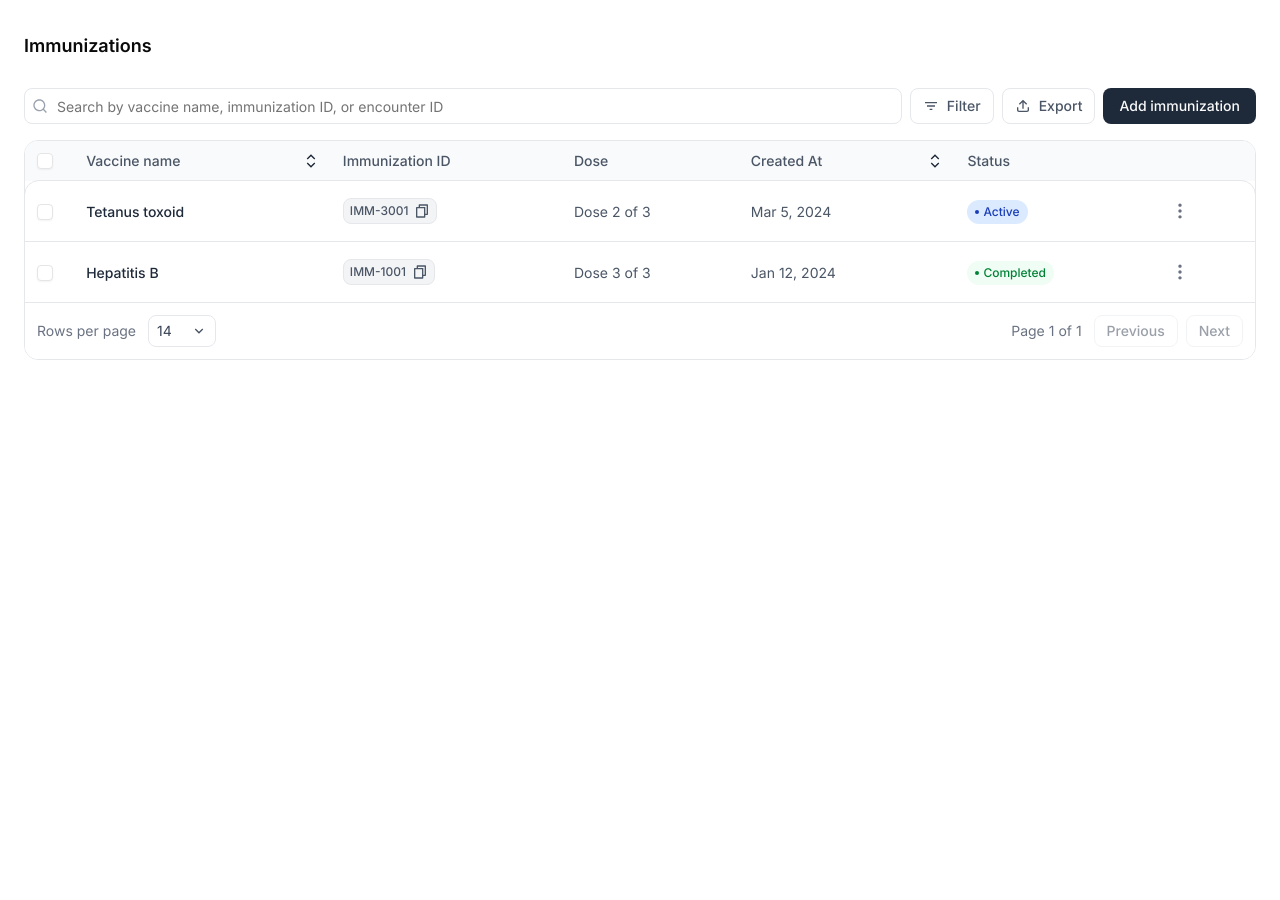
Test: Immunizations table › hides Archive from a member in the row actions and the bulk bar
Click the button named "Open actions for Hepatitis B".
click(1180, 272)  # box 1162,254 -> 1198,290
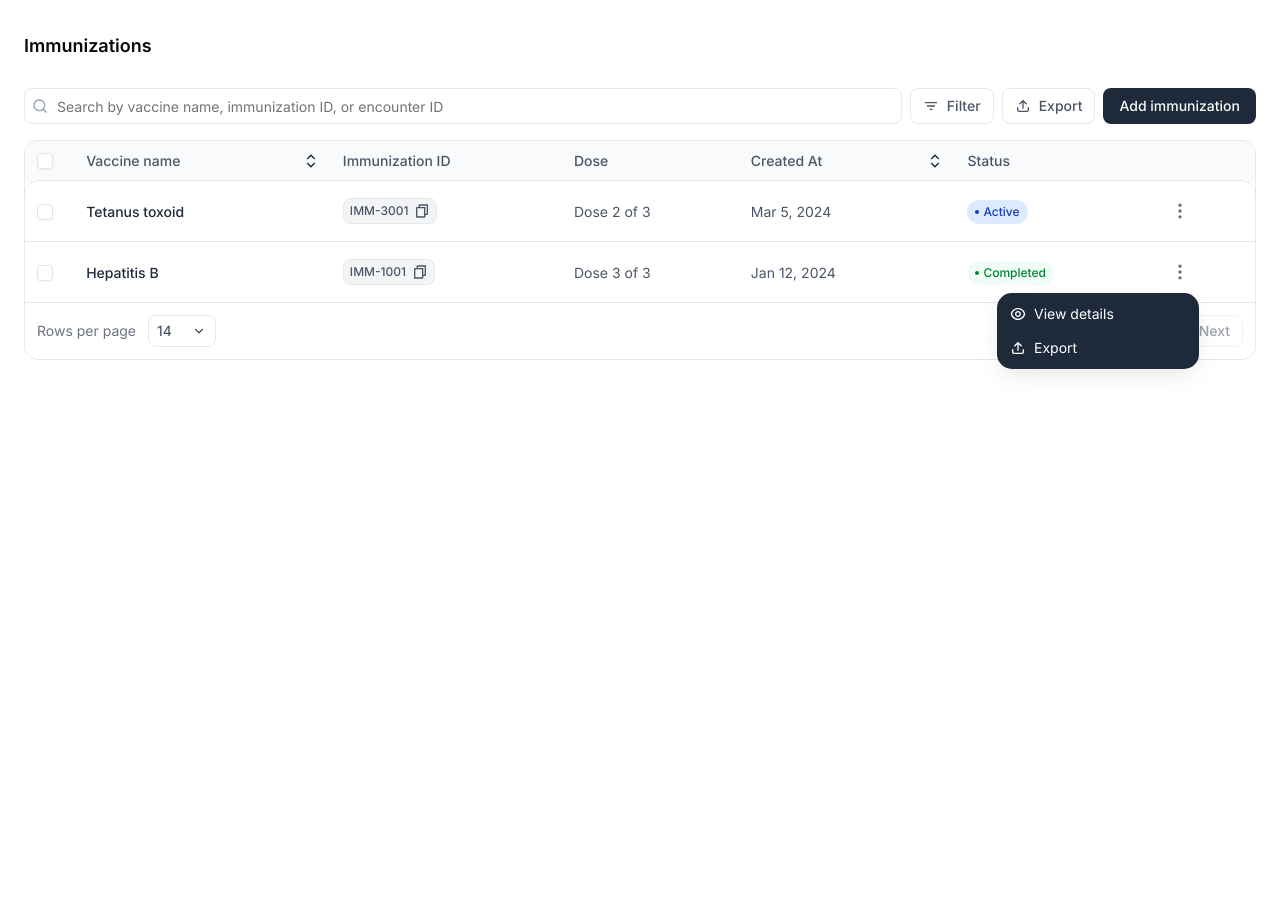
Result: the menu item "View details" is shown at 1010,305 -> 1114,322
Press Escape
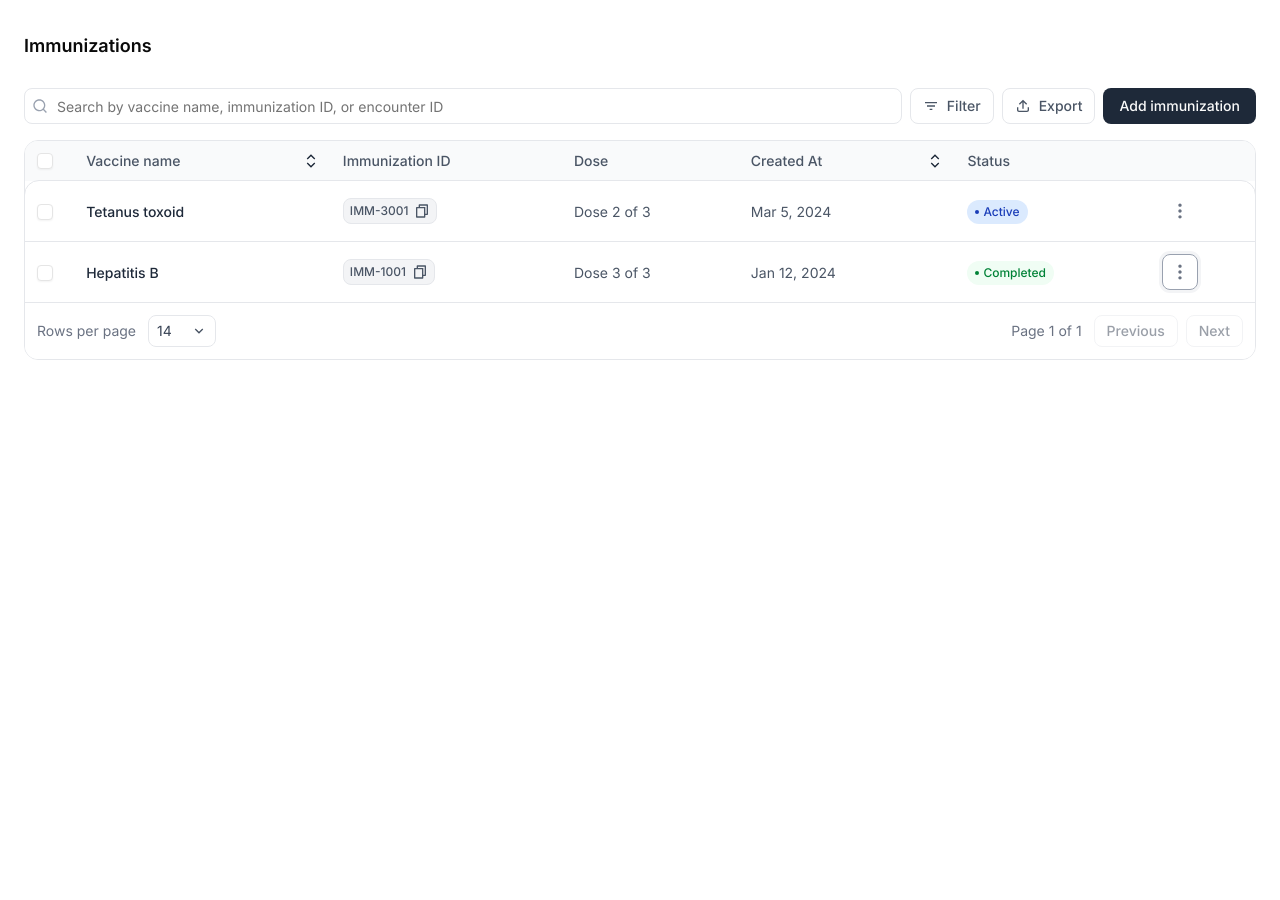
Click the 2nd checkbox.
click(45, 212)  # box 37,204 -> 53,220
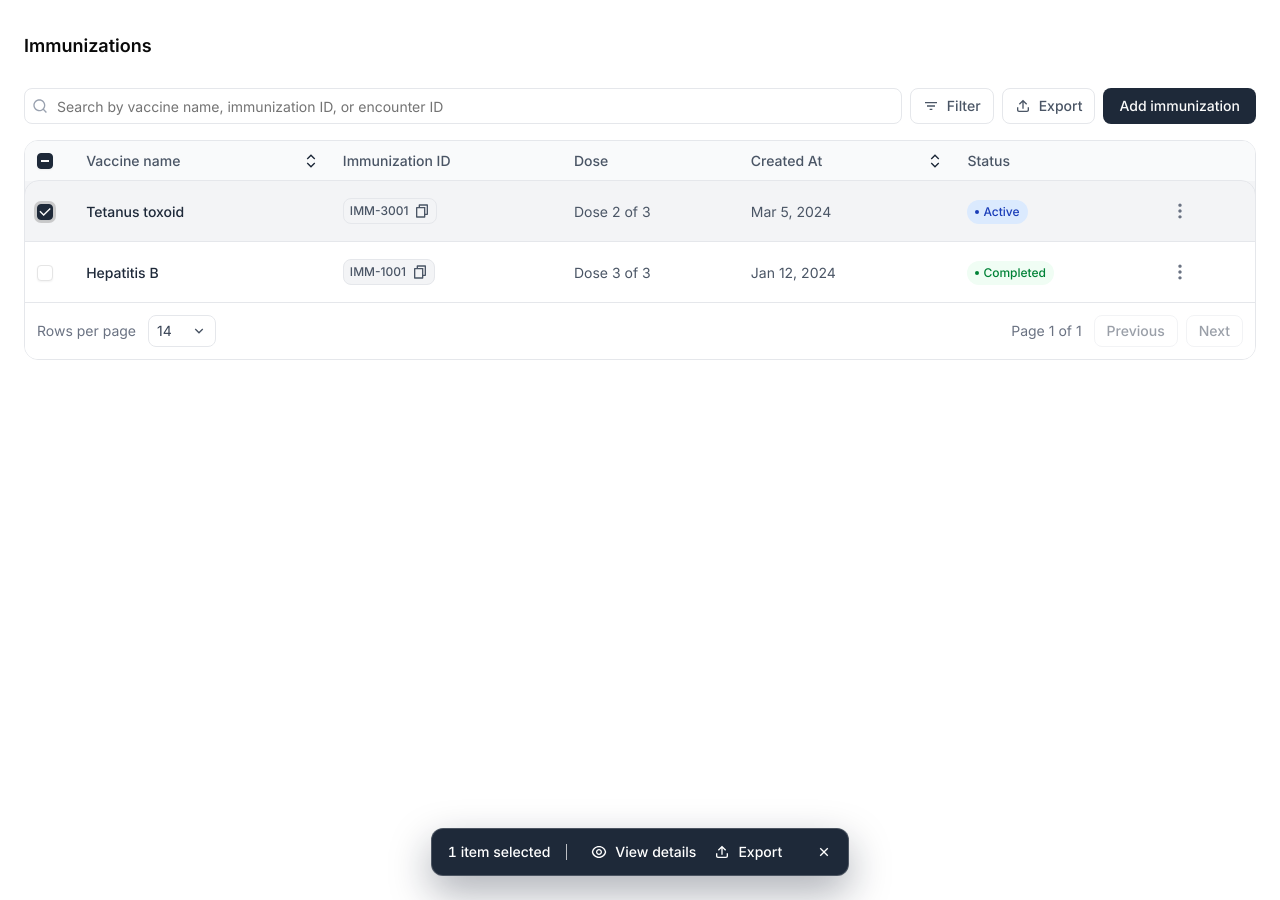
Result: the text "1 item selected" is shown at 448,842 -> 550,862
